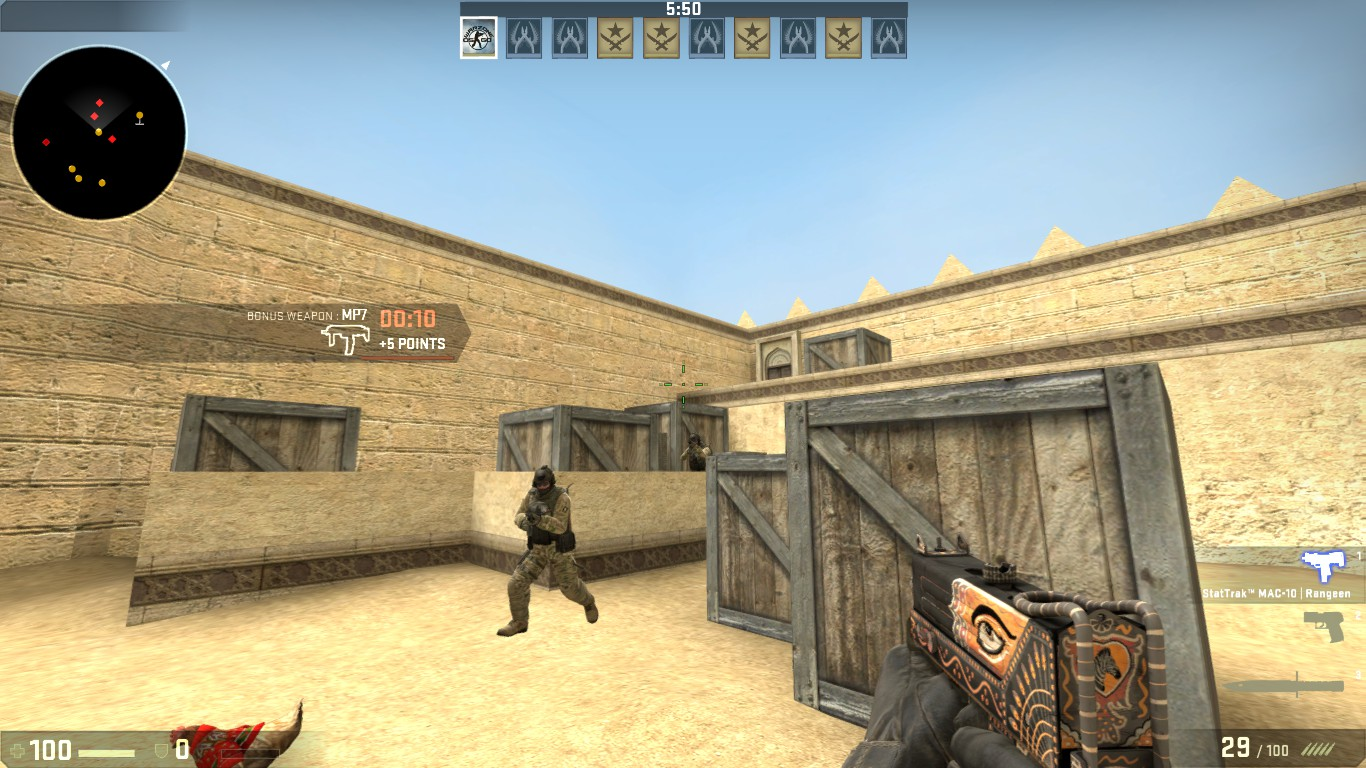c: (503, 464, 589, 637), (681, 430, 714, 471)
ch: (528, 464, 557, 495), (686, 431, 702, 448)
